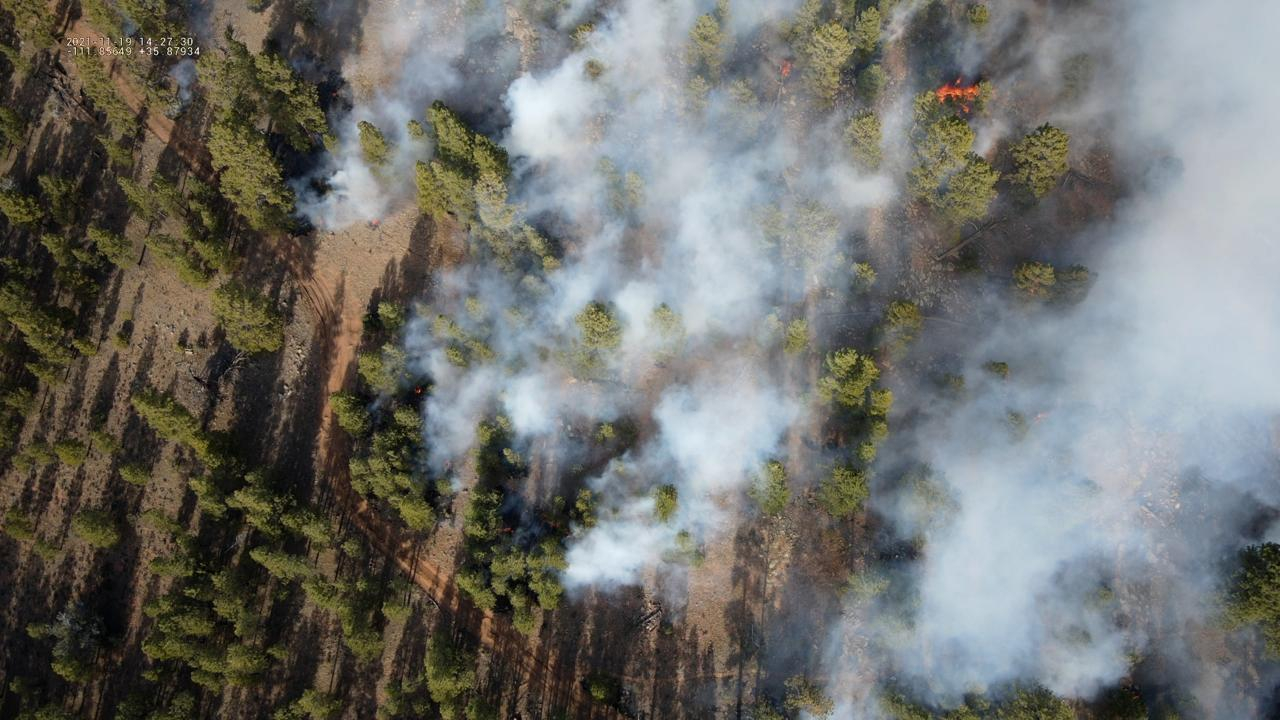fire: (934, 76, 980, 113), (780, 61, 794, 79), (1032, 412, 1048, 425), (414, 386, 423, 395), (502, 527, 514, 533), (372, 220, 380, 225)
smoke: (279, 0, 1280, 720), (164, 0, 216, 51), (167, 57, 198, 104), (120, 17, 138, 36)
